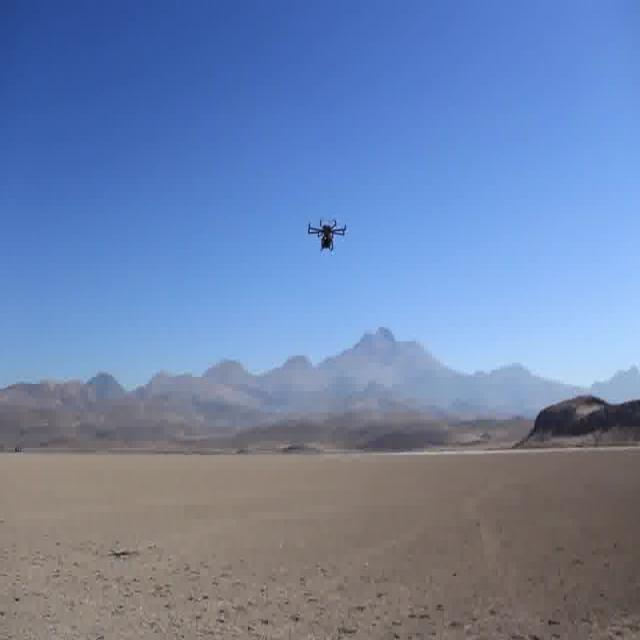drone: (305, 208, 352, 262)
